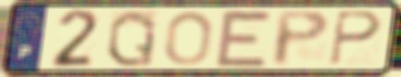2: (49, 7, 101, 69)
E: (213, 8, 275, 69)
O: (163, 9, 215, 67)
P: (271, 9, 332, 69), (328, 9, 384, 67)
Q: (105, 8, 159, 69)
